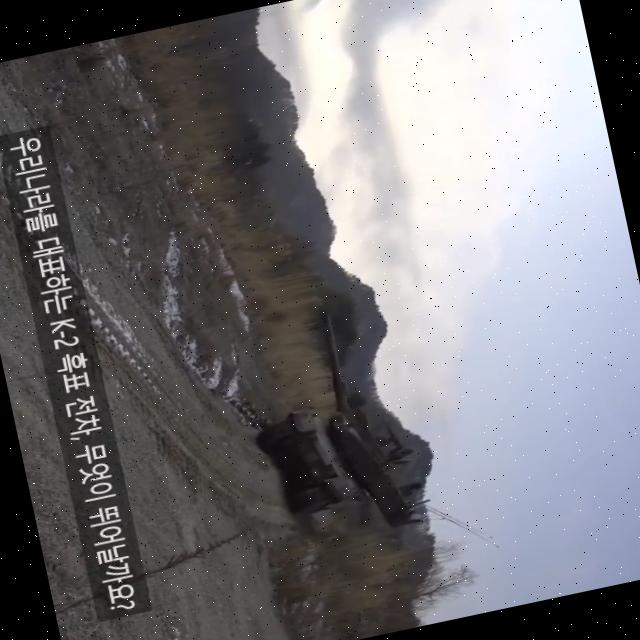korea tank: (234, 290, 438, 554)
